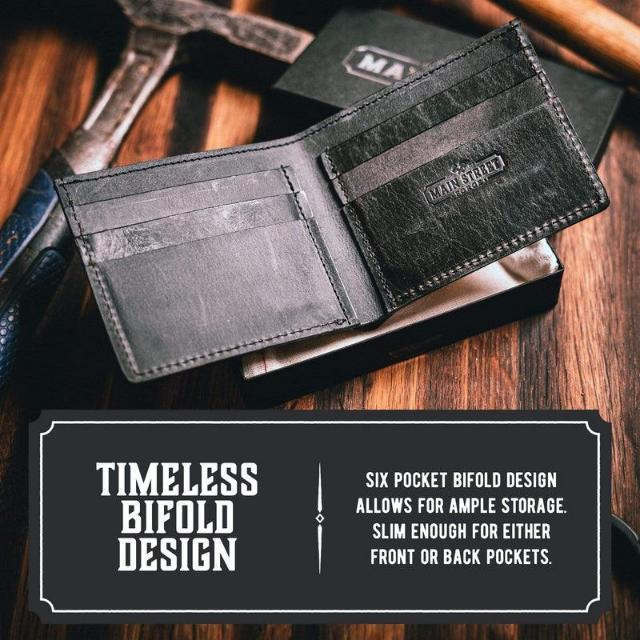wallet: (51, 19, 611, 393)
